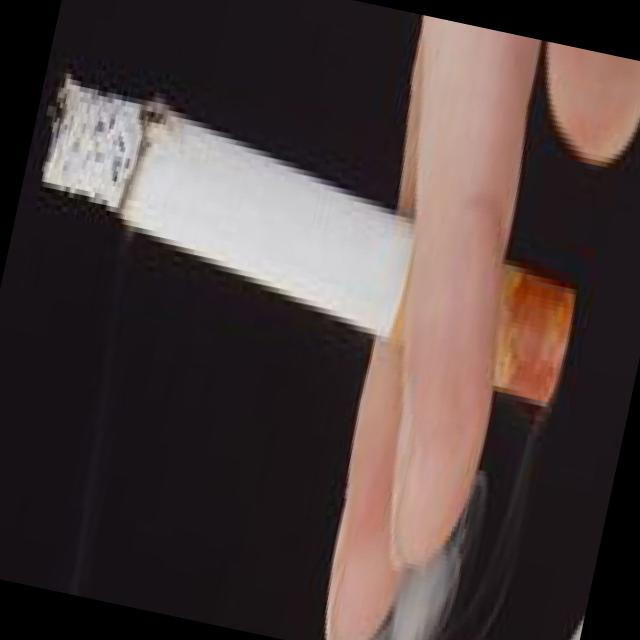cigarette: (9, 67, 610, 414)
